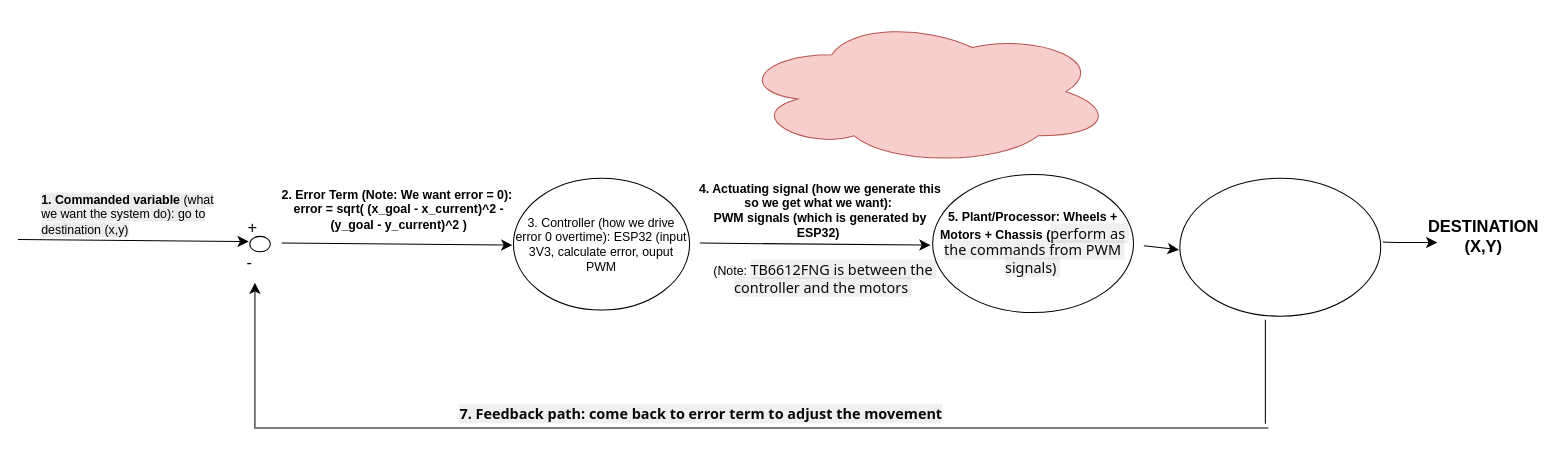
Image size: 1556x454. Some labels were removed from this diagram. The centre of each missing label's shape, as x and y in pixels:
6. Controlled Variable: the distance which is measured by the camera: (x=1280, y=246)
PID Pipeline: (x=925, y=91)
